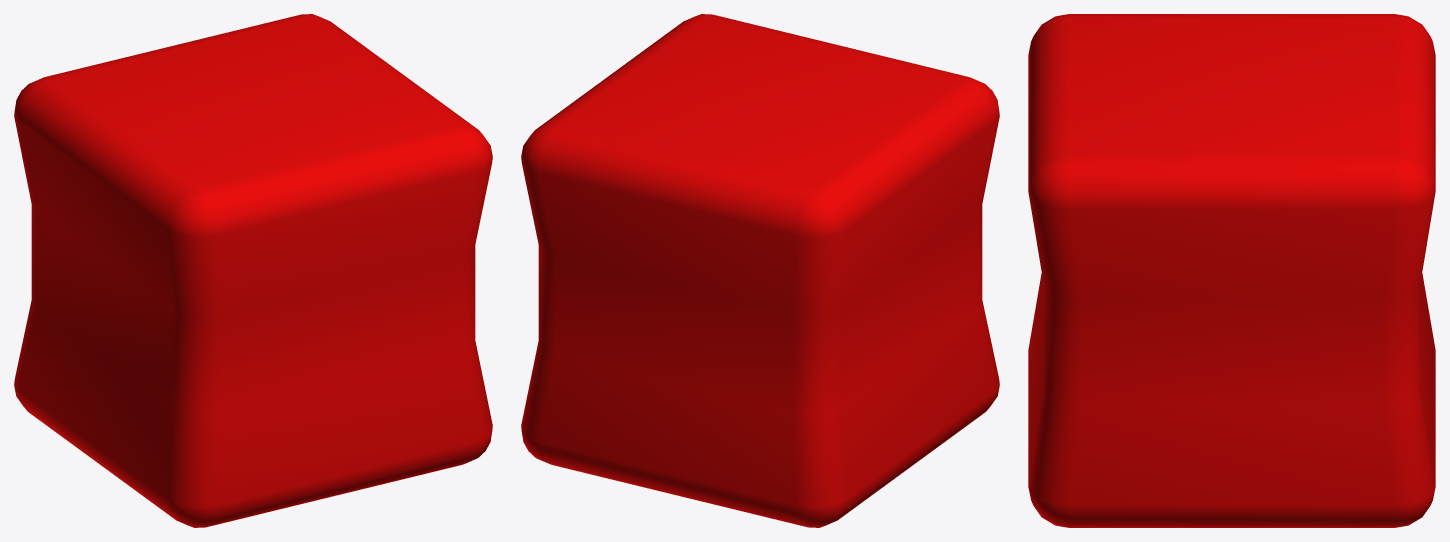
File: redCandy.fbx
The picture shows the model from 3 angles, left to right: view 1: azimuth 30°, elevation 25°; view 2: azimuth 150°, elevation 25°; view 3: azimuth 270°, elevation 25°; orthographic projection. The views are drawn at different scales.
Visible parts, largest first — view 1: Roundcube; view 2: Roundcube; view 3: Roundcube.
Part boxes in pixels (x1,y1,x2,y2): Roundcube: (14, 14, 492, 527); Roundcube: (521, 14, 999, 527); Roundcube: (1028, 14, 1435, 527).
Size of the model in its own units: 100 by 100 by 100.
